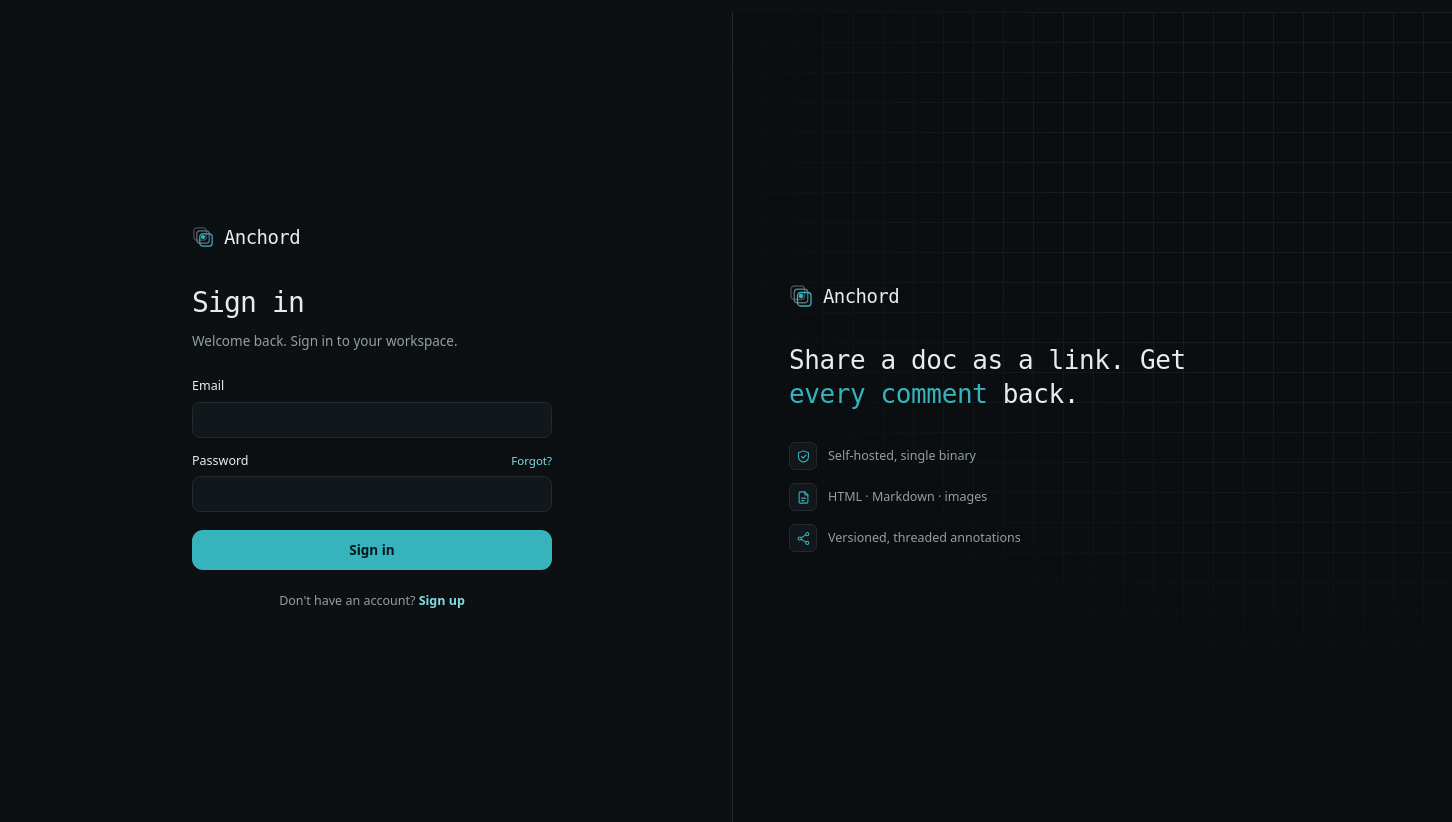
Test: web-core S-001 — sign in, sign out, guard › AS-002: a valid sign-in establishes the session and opens the authenticated app
Step 1. Type "a@b.co" into the field labelled "Email" → [372, 420], box x1=192 y1=402 x2=552 y2=438
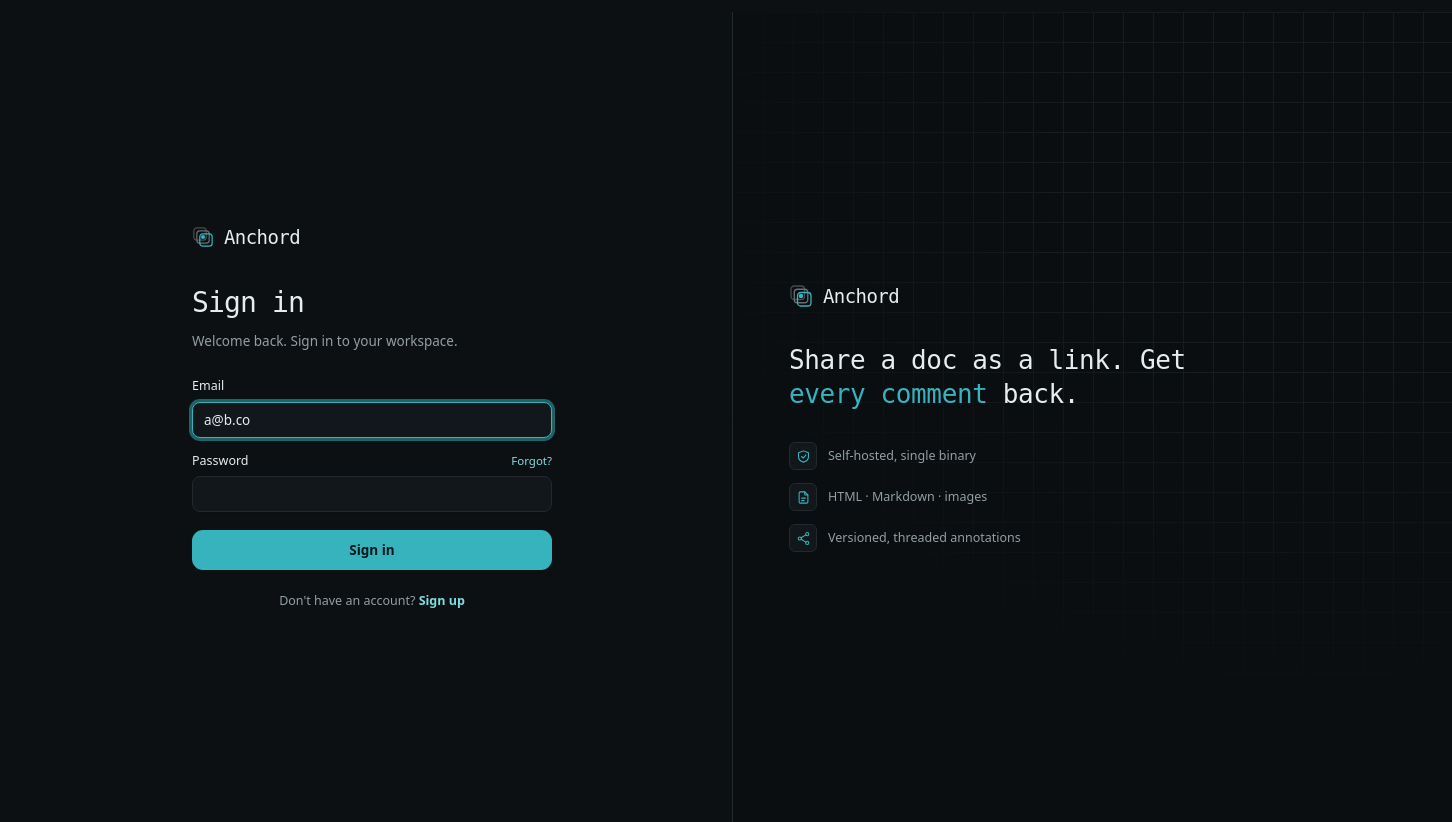
Step 2. Type "correct-horse" into the password field labelled "Password" → [372, 494], box x1=192 y1=476 x2=552 y2=512
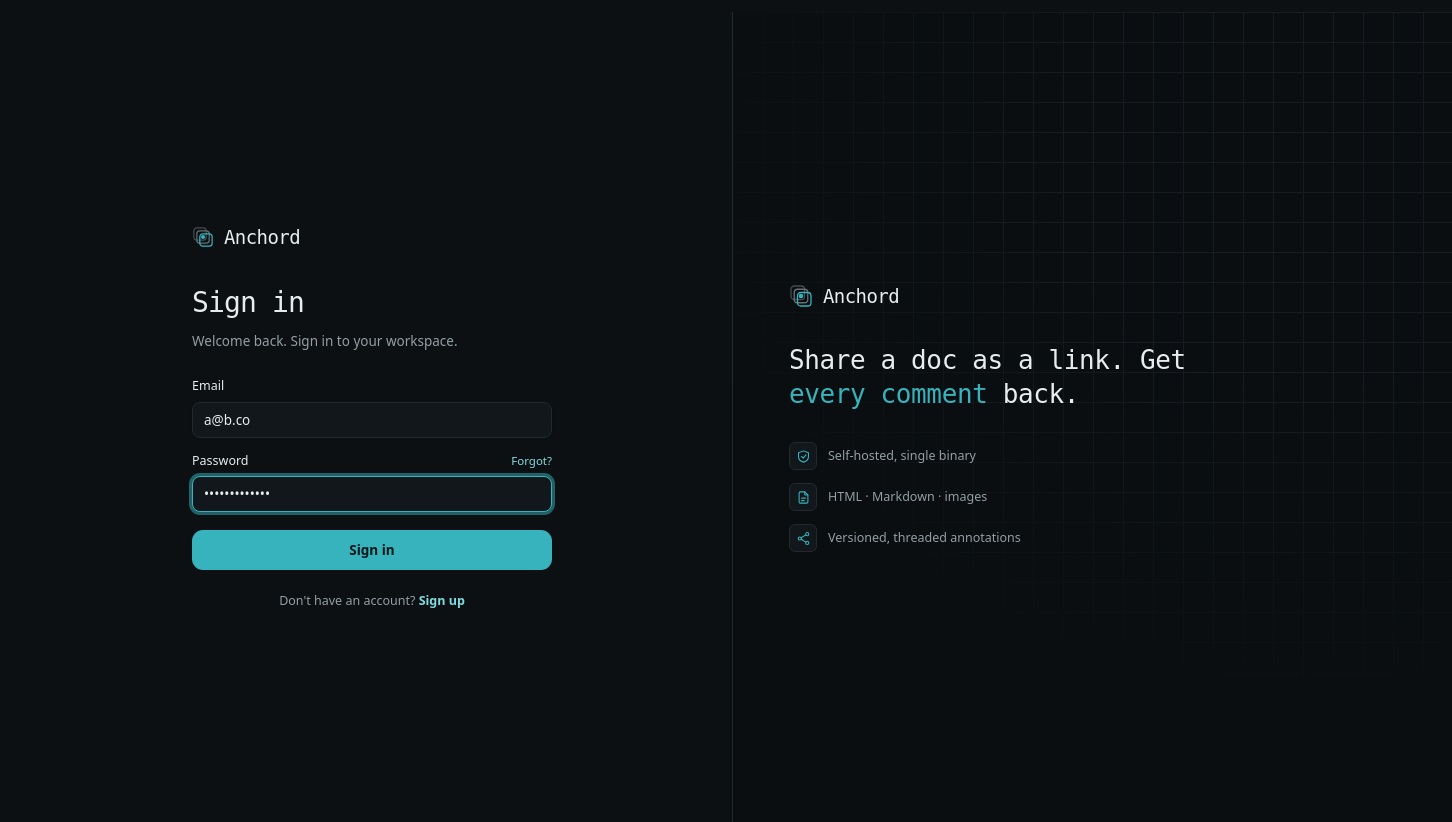
Step 3. Click the button "Sign in" → [372, 550], box x1=192 y1=530 x2=552 y2=570
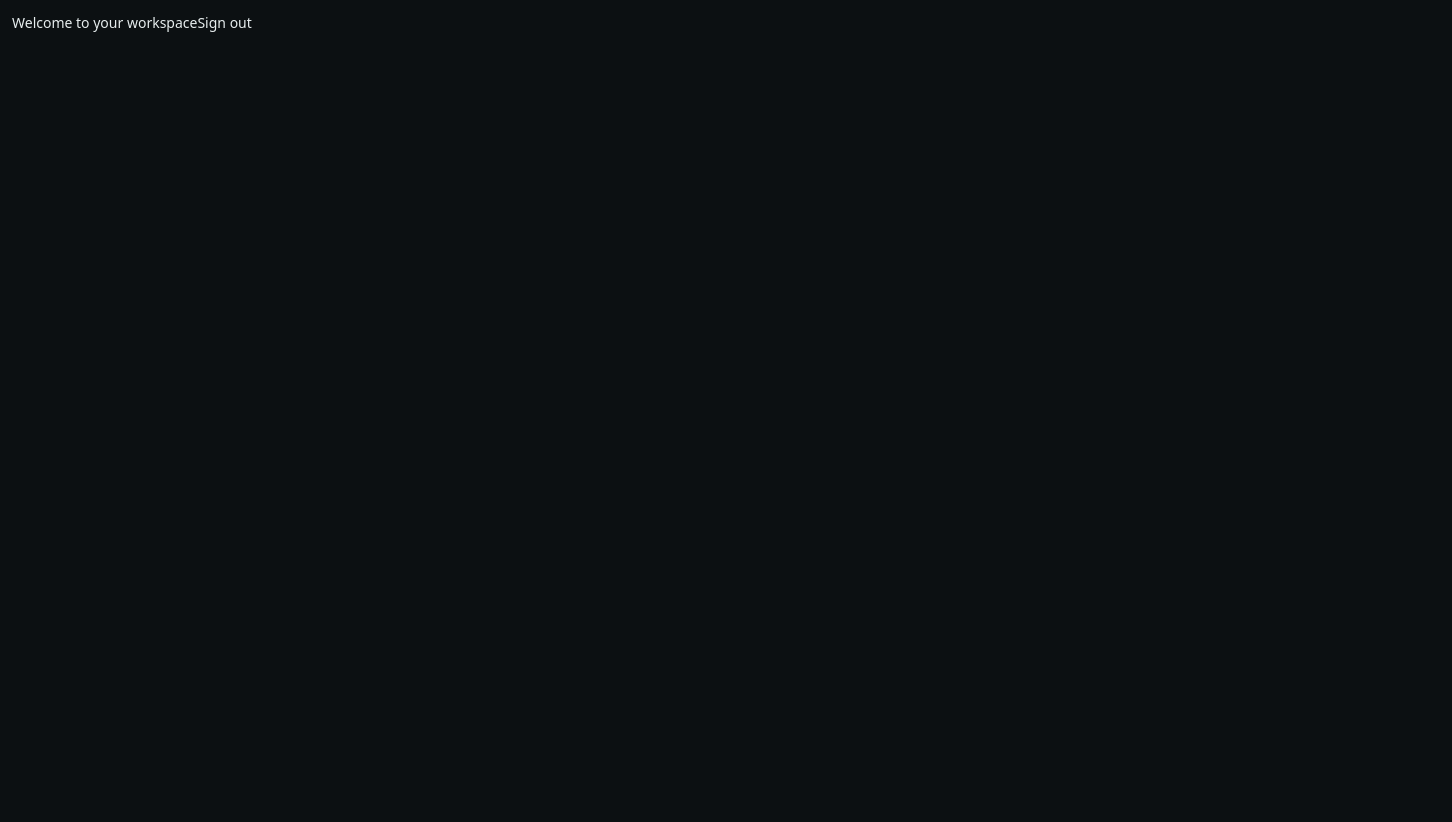
Now the text "Welcome to your workspace" is shown, box x1=12 y1=13 x2=197 y2=32
